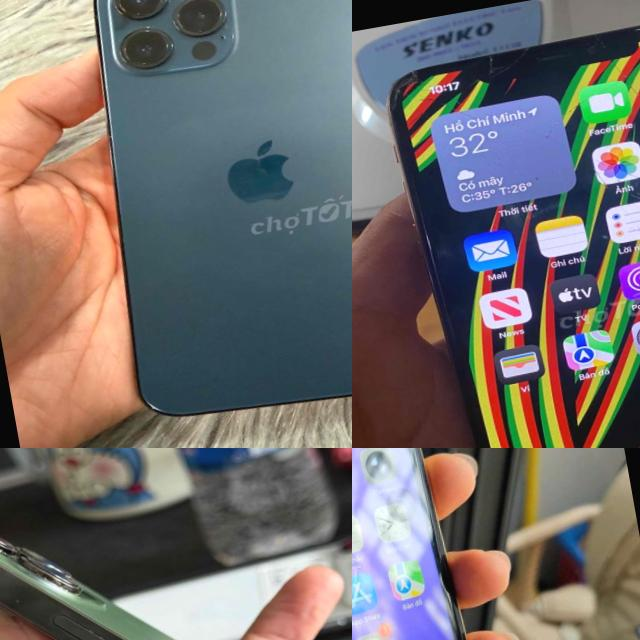gen_11: (352, 448, 510, 640)
gen_12_13: (57, 0, 352, 448), (0, 448, 352, 640)
gen_x_xs: (388, 25, 640, 448)
